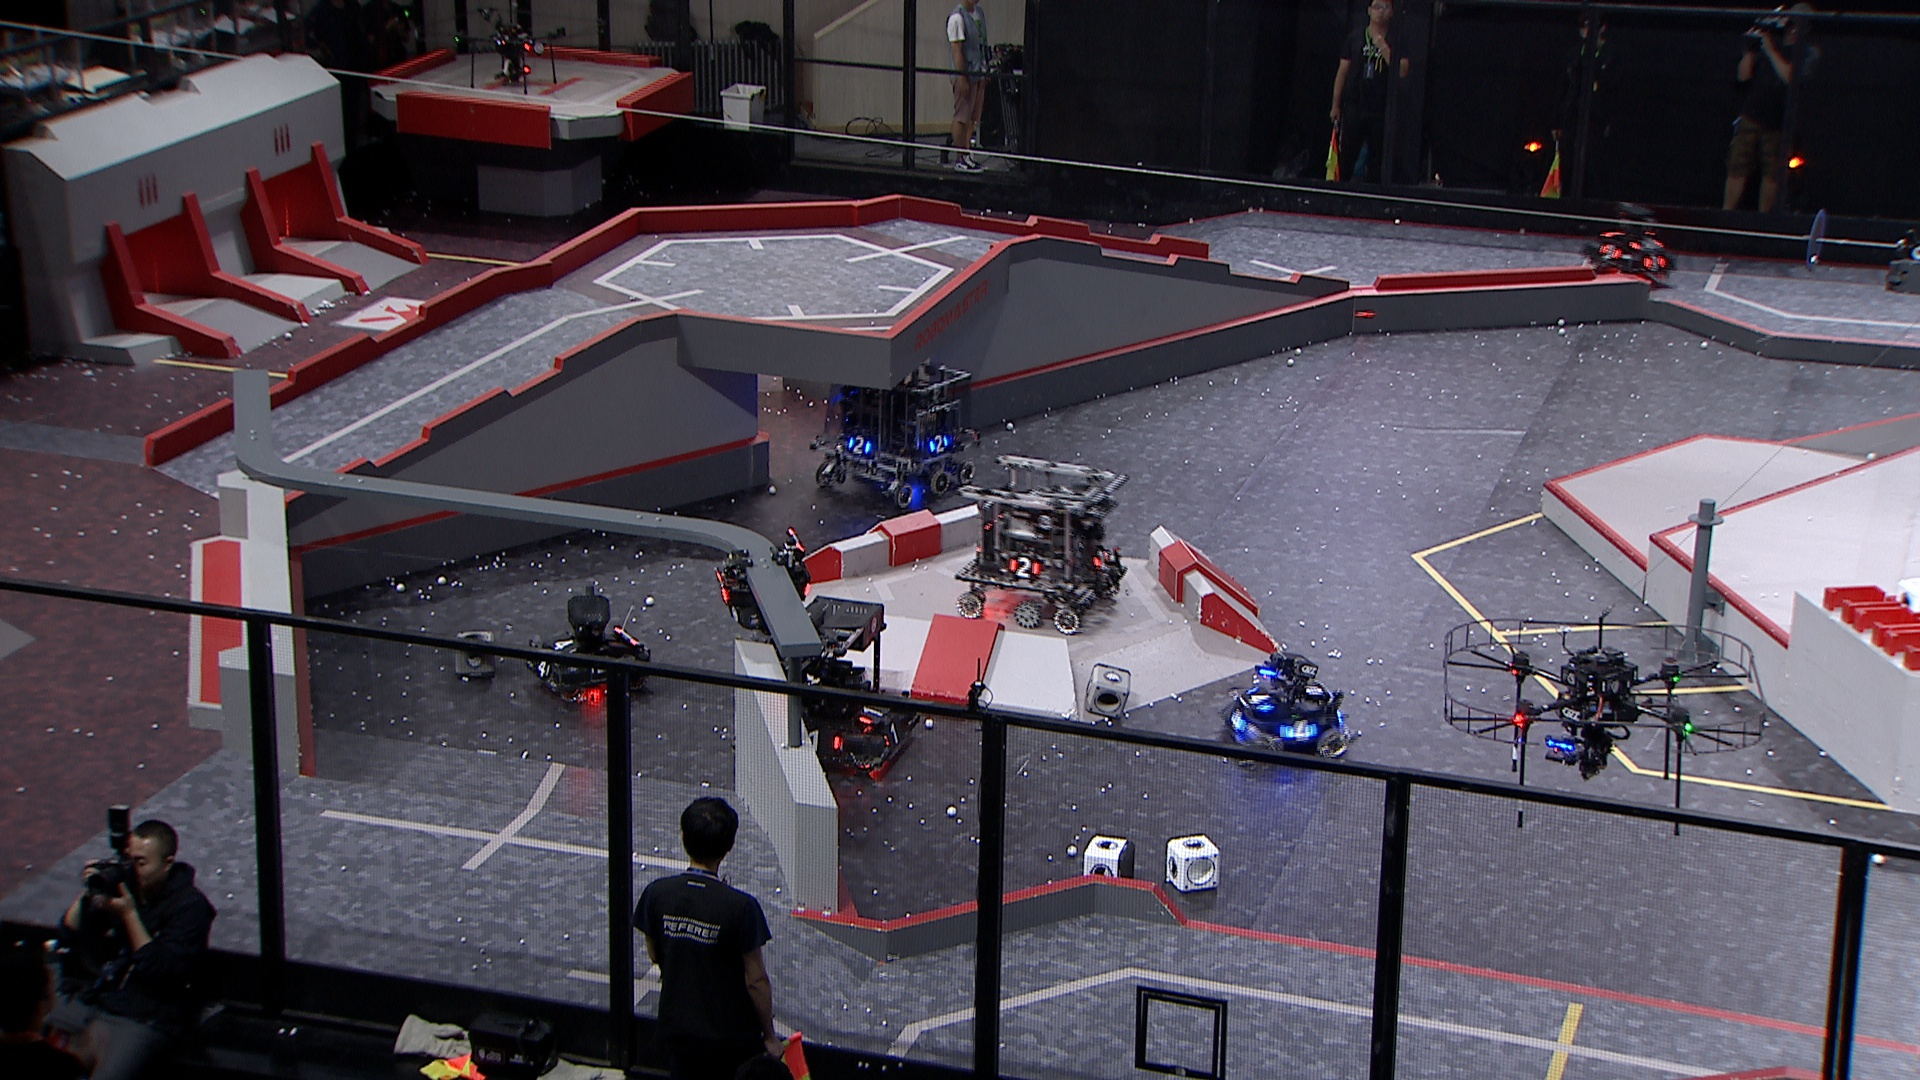armor: (798, 727, 847, 760), (856, 688, 893, 728), (880, 712, 913, 750), (1005, 553, 1043, 582), (1244, 683, 1278, 713), (1282, 717, 1319, 745), (711, 562, 732, 608), (547, 632, 580, 659), (527, 651, 556, 680), (843, 433, 874, 458), (1626, 233, 1669, 251), (1636, 251, 1671, 272), (927, 431, 953, 456), (1091, 543, 1112, 572), (1596, 243, 1626, 262), (1225, 704, 1247, 731)
car: (756, 593, 928, 775), (956, 452, 1127, 636), (814, 356, 973, 508), (1221, 646, 1360, 765), (522, 588, 651, 708), (1582, 196, 1680, 287)
watcher: (712, 526, 820, 636)
